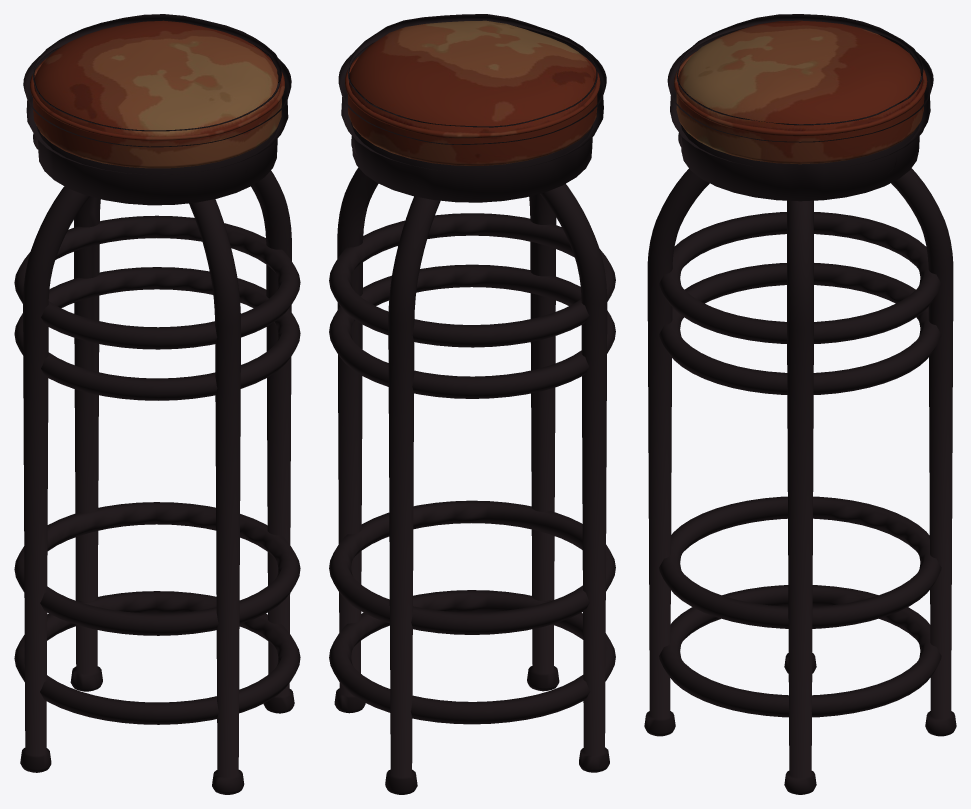
The model's file is SM_Int_MetalStool.fbx.
3 views of the same model, side by side, from view 1: azimuth 30°, elevation 25°; view 2: azimuth 150°, elevation 25°; view 3: azimuth 270°, elevation 25° (orthographic).
Visible parts, largest first — view 1: SM_Int_MetalStool; view 2: SM_Int_MetalStool; view 3: SM_Int_MetalStool.
Part boxes in pixels (x1=…): SM_Int_MetalStool: x1=14, y1=14, x2=300, y2=794; SM_Int_MetalStool: x1=329, y1=14, x2=615, y2=794; SM_Int_MetalStool: x1=644, y1=14, x2=956, y2=794.
Size of what is drawn, in the model's own units: 0.3677 by 0.8988 by 0.3703.
